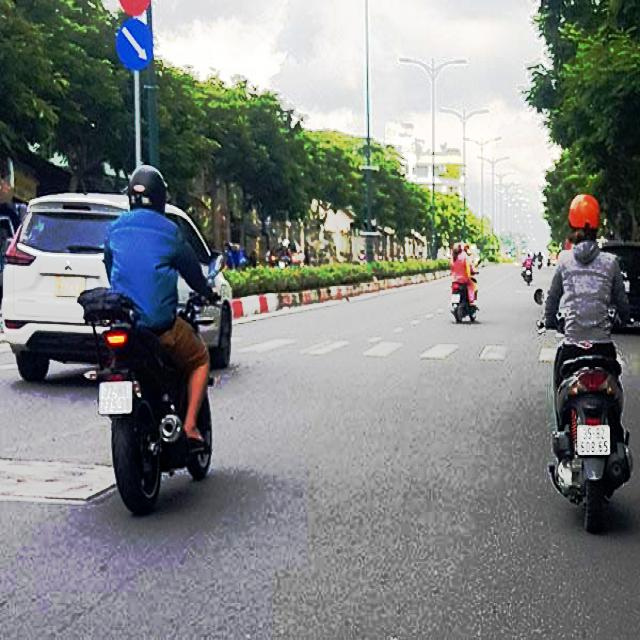license_plate: (578, 424, 613, 457), (100, 383, 133, 413)
